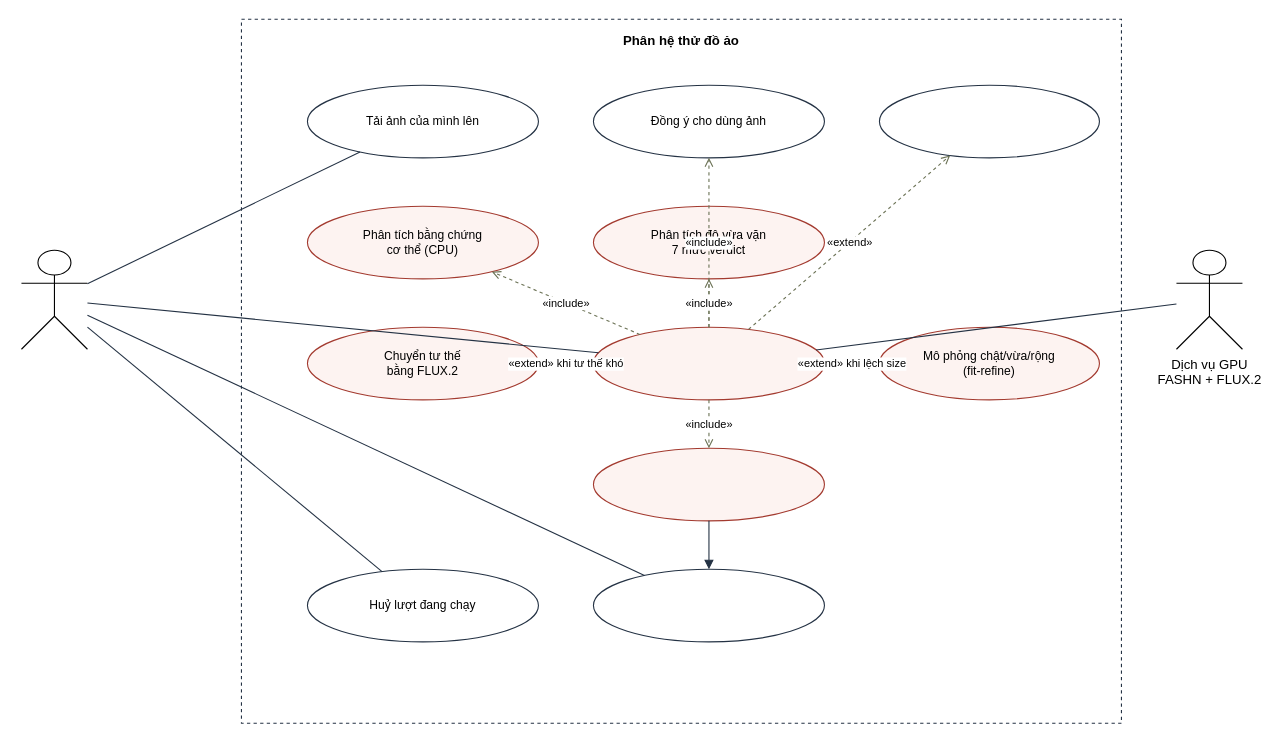
Some shapes in this 1280 by 743 pixel diagram are drawn without their labels. Each missing label, with the box of its shape:
Khách hàng: (20, 249, 87, 349)
Kiểm tra danh tính, cấu trúc, độ che phủ: (592, 447, 824, 521)
Nhận ảnh kết quả hoặc lý do từ chối: (592, 568, 824, 642)
Qua cổng 18+ (chỉ với đồ nhạy cảm): (878, 84, 1099, 158)
Sinh ảnh thử đồ: (592, 326, 824, 400)
